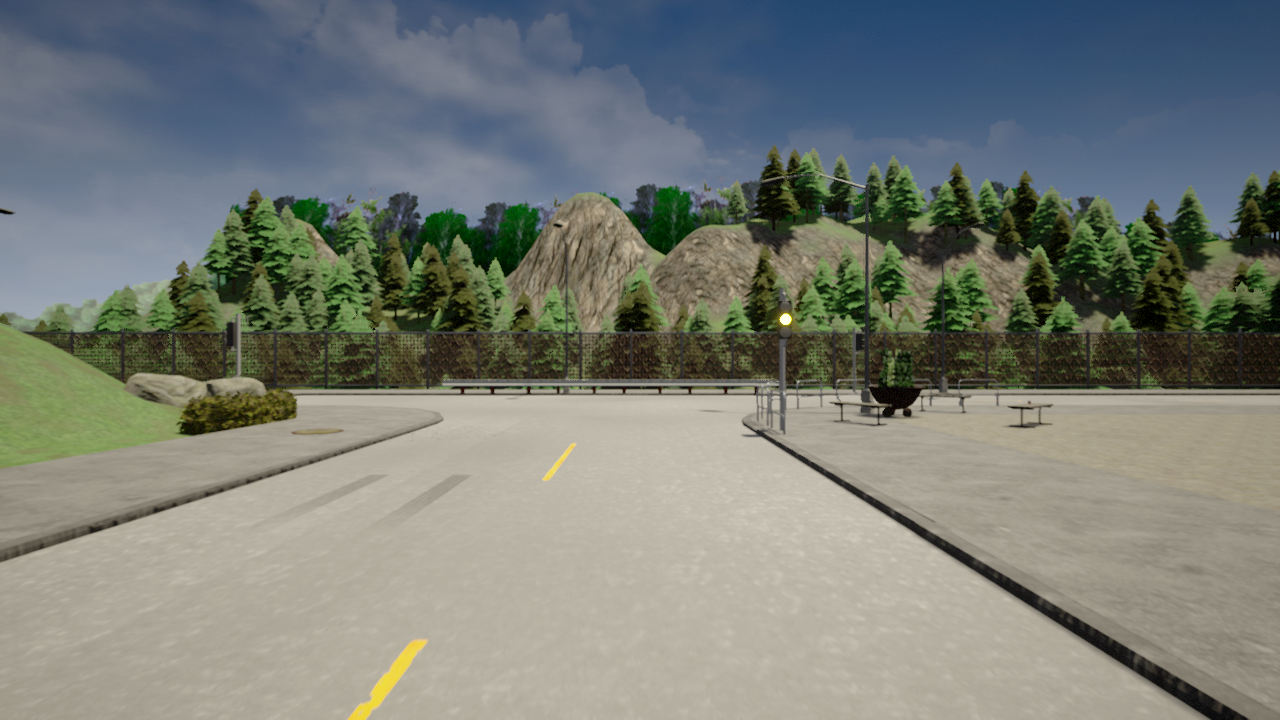yellow: (776, 299, 795, 339)
